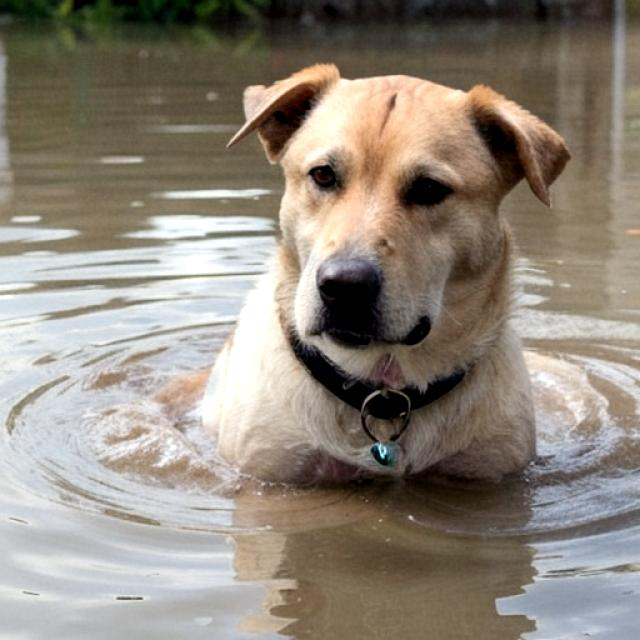dog: (171, 50, 578, 512)
